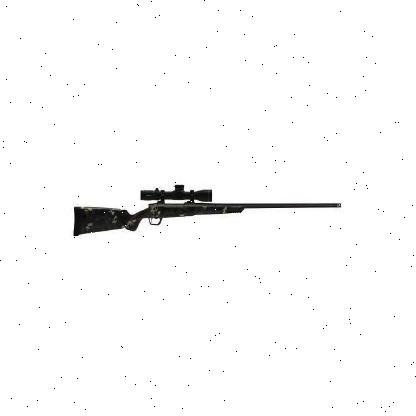gun: (72, 184, 342, 240)
